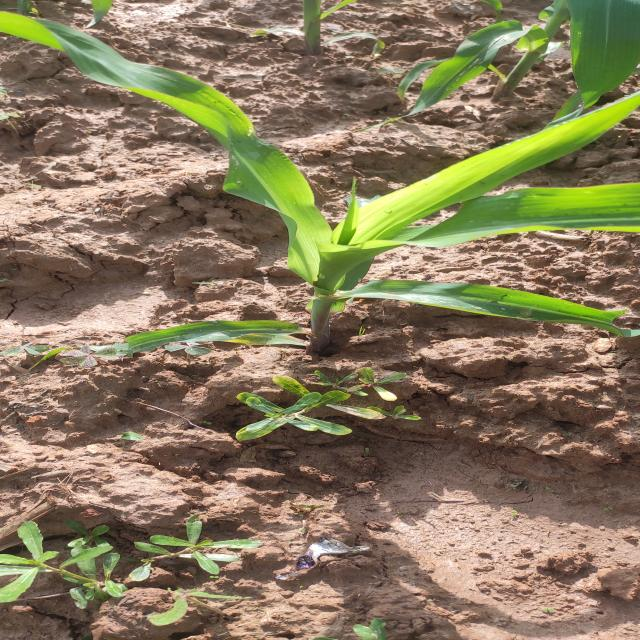maize: (0, 8, 640, 362), (409, 0, 640, 122), (276, 4, 366, 58)
weed: (7, 515, 267, 622), (202, 370, 449, 431)
